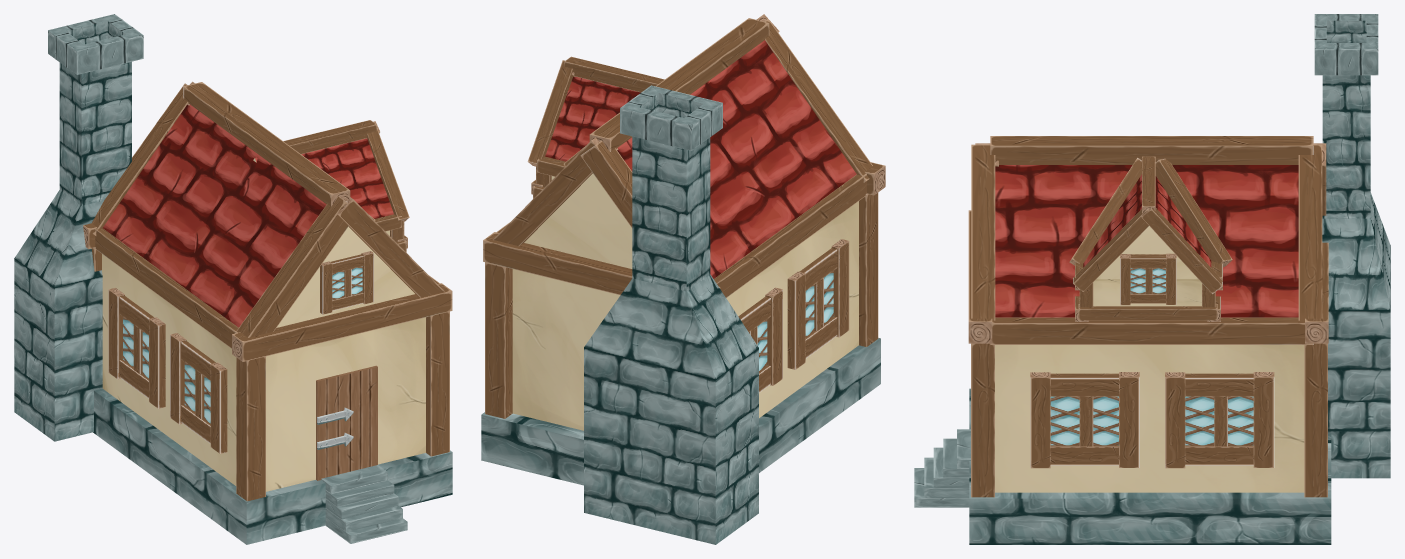
The model's file is handpainted_house.glb.
3 renders of one model, left to right at view 1: azimuth 30°, elevation 25°; view 2: azimuth 150°, elevation 25°; view 3: azimuth 270°, elevation 25°, orthographic. The views are drawn at different scales.
Parts seen in each view (by area): view 1: Cube.045; view 2: Cube.045; view 3: Cube.045.
Boxes of the visible parts, x1,y1,x2,y2 form: Cube.045: (14,14,452,544); Cube.045: (481,14,885,544); Cube.045: (914,14,1390,544).
Bounding box in the file's own units: 217 × 309 × 321.
1 material, 1 textured.
